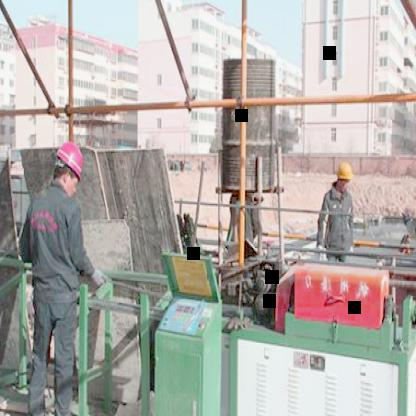helmet: (50, 140, 86, 196), (332, 156, 356, 196)
